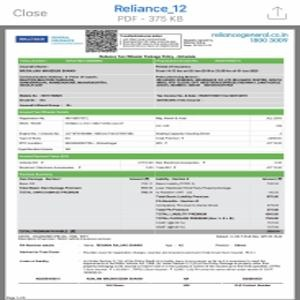image: (15, 35, 50, 44)
table: (17, 172, 285, 234), (19, 56, 283, 108), (16, 106, 284, 153), (18, 152, 286, 171)
text: (18, 242, 281, 282), (213, 33, 288, 42)
